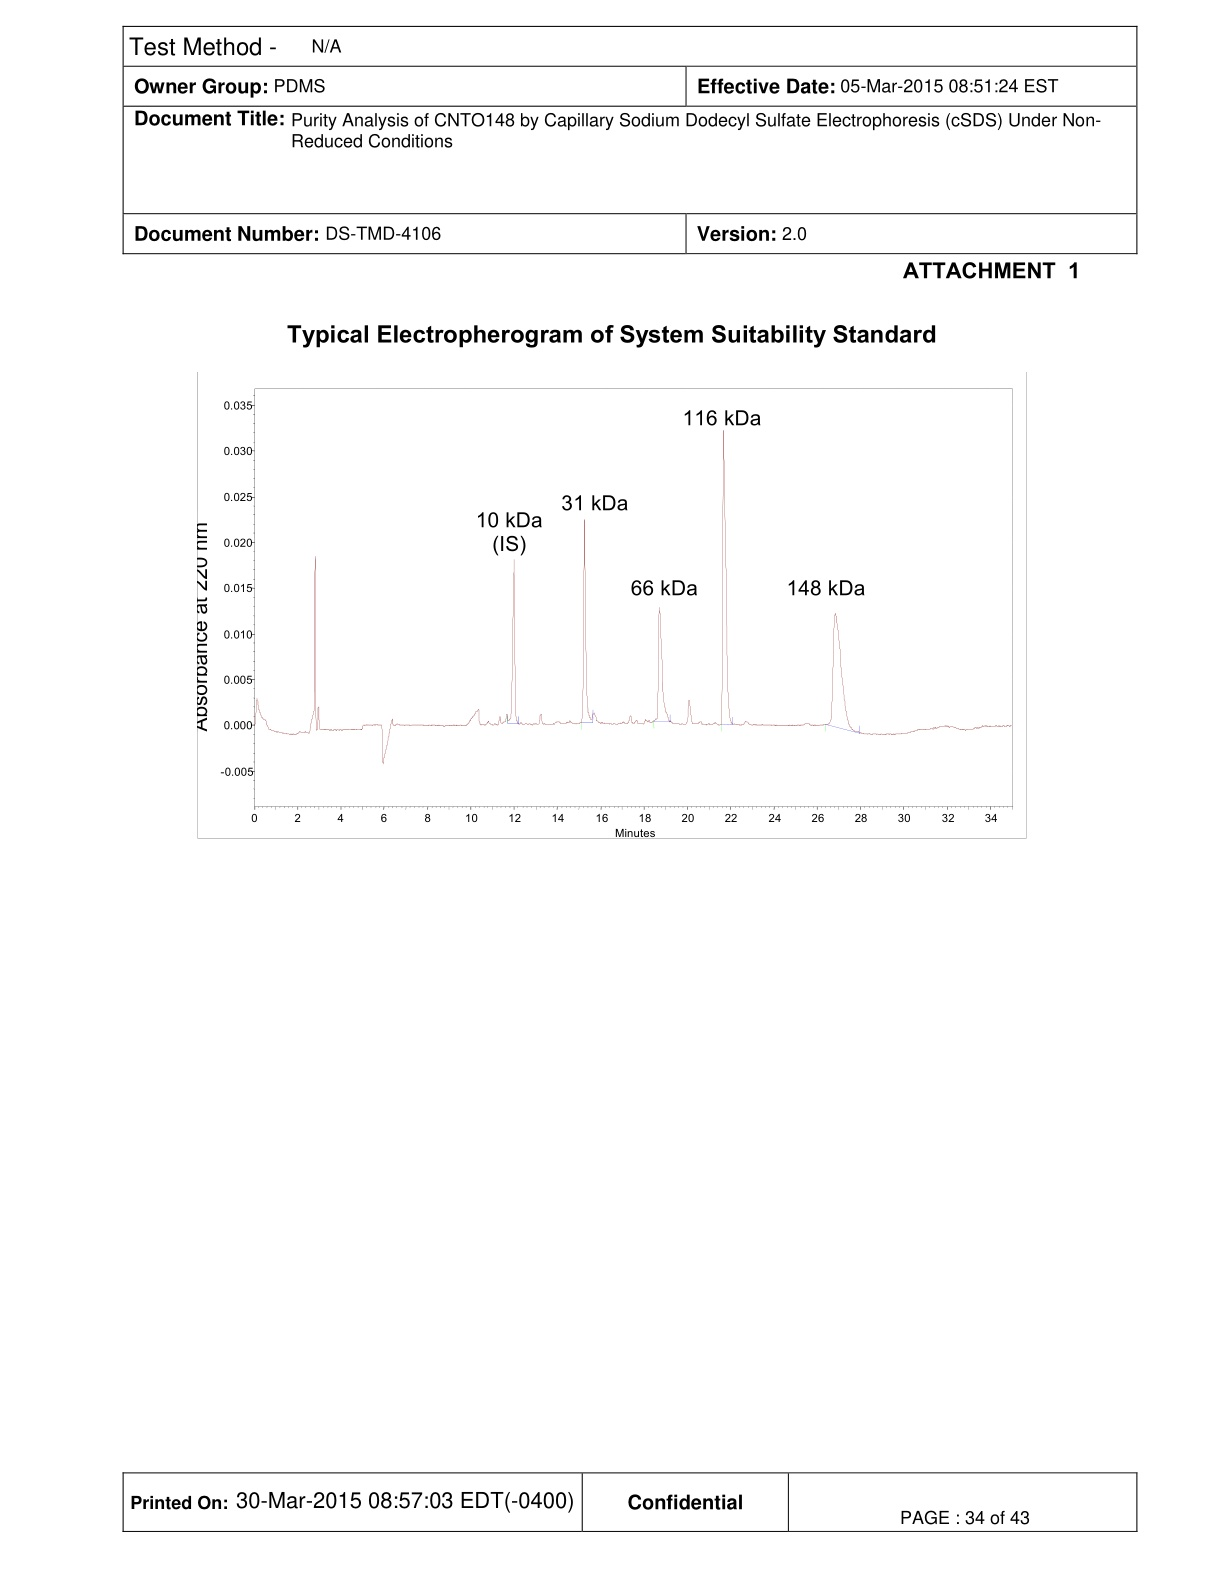full_lined: (121, 1472, 1138, 1533)
merged_cells: (122, 24, 1138, 255)
